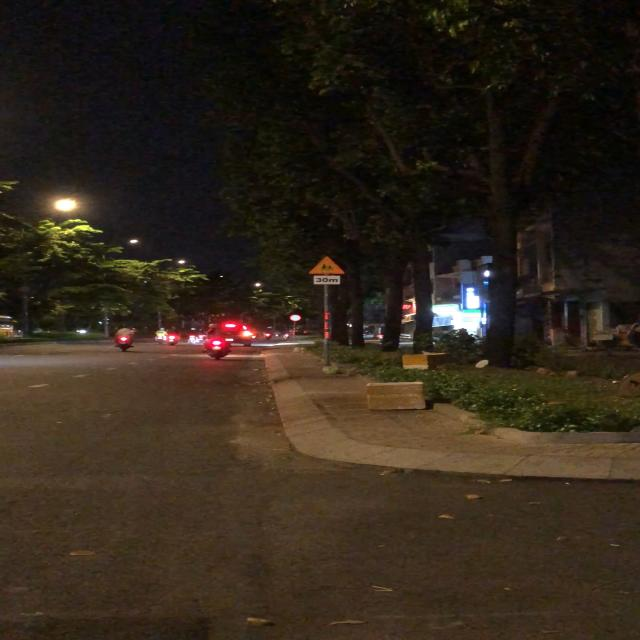Bien bao tre em: (308, 254, 346, 276)
